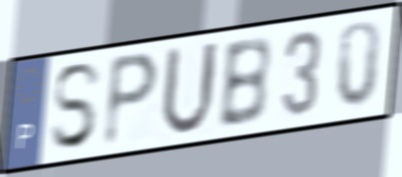0: (335, 18, 383, 113)
3: (280, 26, 325, 122)
B: (215, 33, 273, 133)
P: (100, 49, 163, 152)
S: (48, 59, 105, 154)
U: (157, 39, 220, 141)
